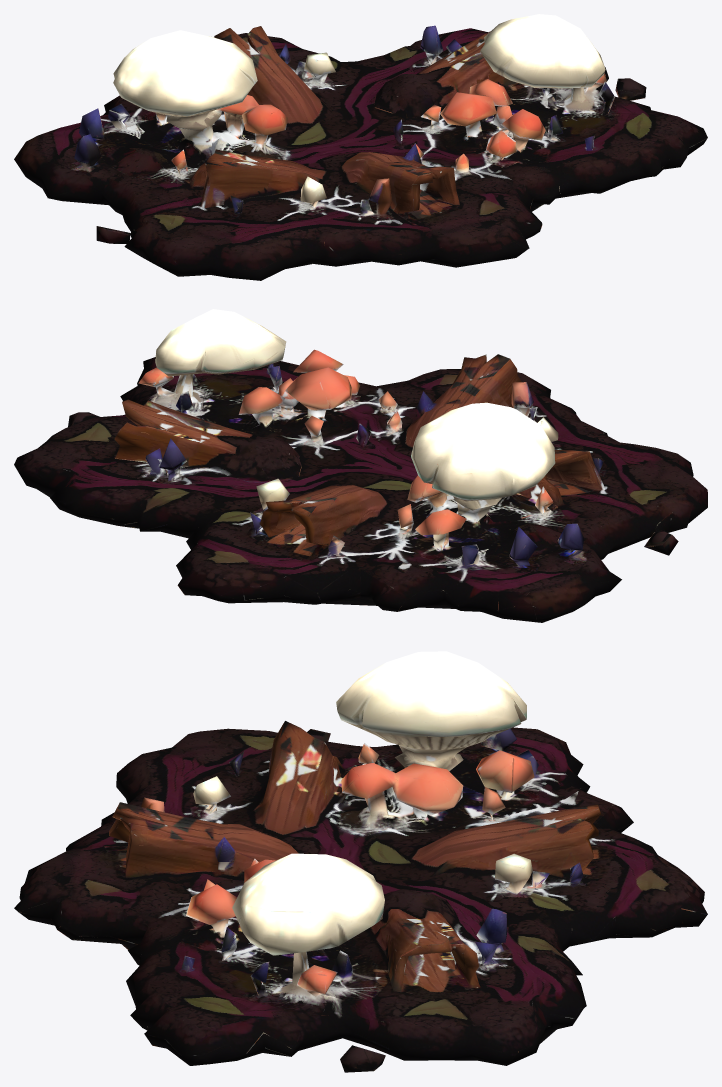
The picture shows the model from 3 angles, top to bottom: view 1: azimuth 30°, elevation 25°; view 2: azimuth 150°, elevation 25°; view 3: azimuth 270°, elevation 25°; orthographic projection. The views are drawn at different scales.
Parts seen in each view (by area): view 1: Mesh_0; view 2: Mesh_0; view 3: Mesh_0.
Boxes of the visible parts, x1,y1,x2,y2 form: Mesh_0: [14, 14, 707, 280]; Mesh_0: [14, 309, 707, 622]; Mesh_0: [14, 651, 707, 1072].
Size of the model in its own units: 1.91 by 0.458 by 1.7.
Materials: 1 (1 with a texture image).
